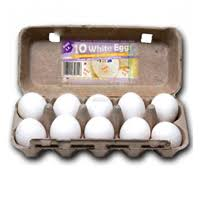eggs: (82, 115, 116, 144), (17, 89, 49, 117), (155, 119, 186, 147), (14, 119, 48, 144), (54, 91, 81, 120), (121, 114, 150, 141), (51, 119, 83, 143), (118, 89, 144, 118), (153, 90, 183, 115), (87, 94, 114, 120)
